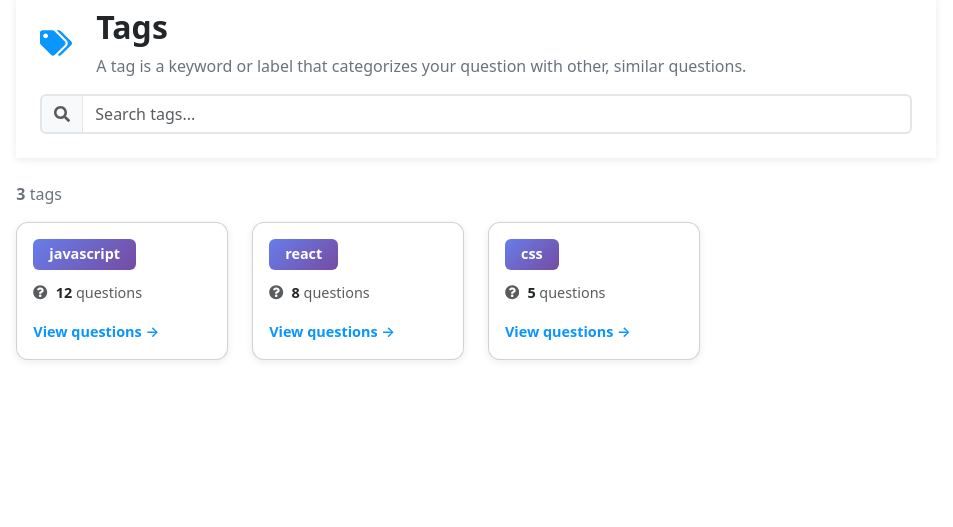
Tags Page › shows No tags found when search has no matches
Check: the text "javascript" is shown, box [33,239,136,270]
In the field with placeholder "Search tags...": (497,114) [83,94,912,134], type "xyz-no-match"
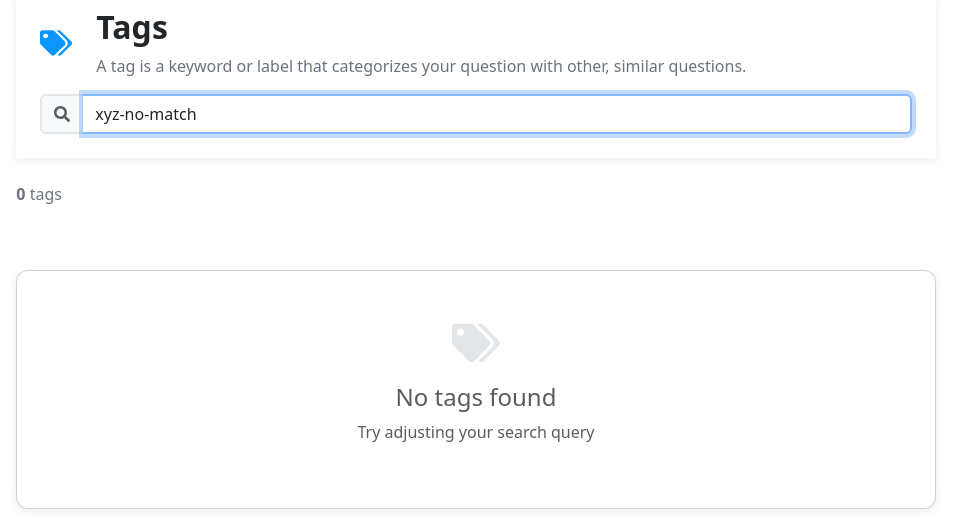
Check: the heading "No tags found" is shown, box [396,380,556,413]
